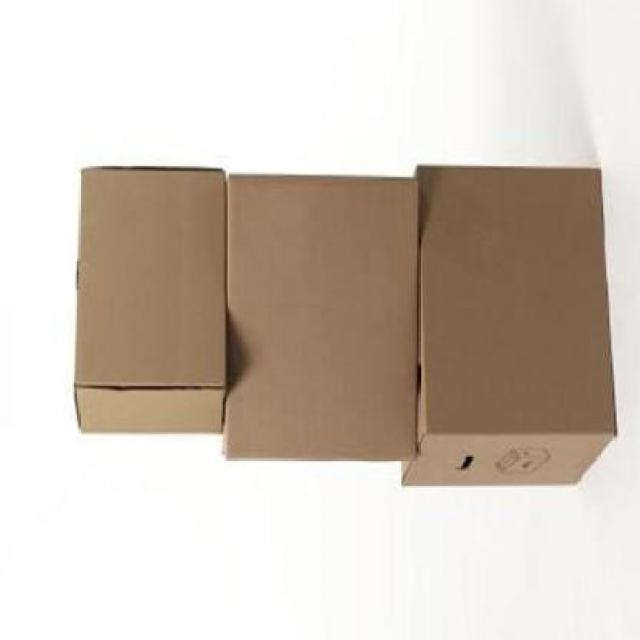normal: (408, 158, 622, 492), (220, 163, 423, 469), (68, 158, 228, 442)
